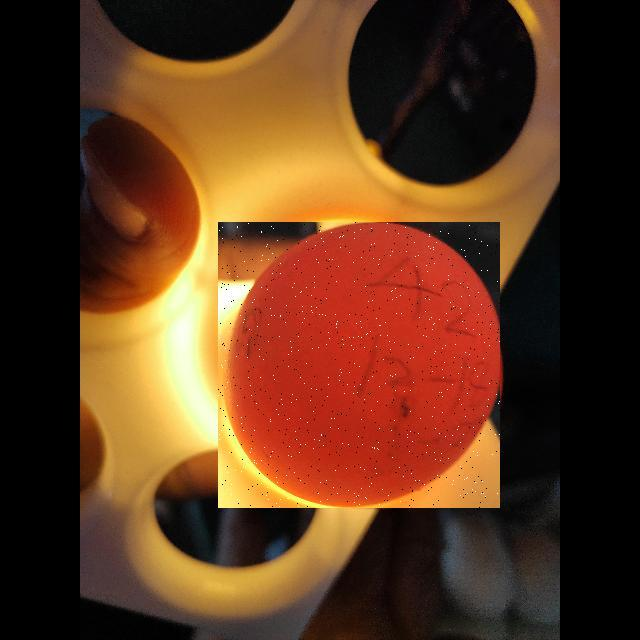Infertile: (218, 222, 500, 508)
